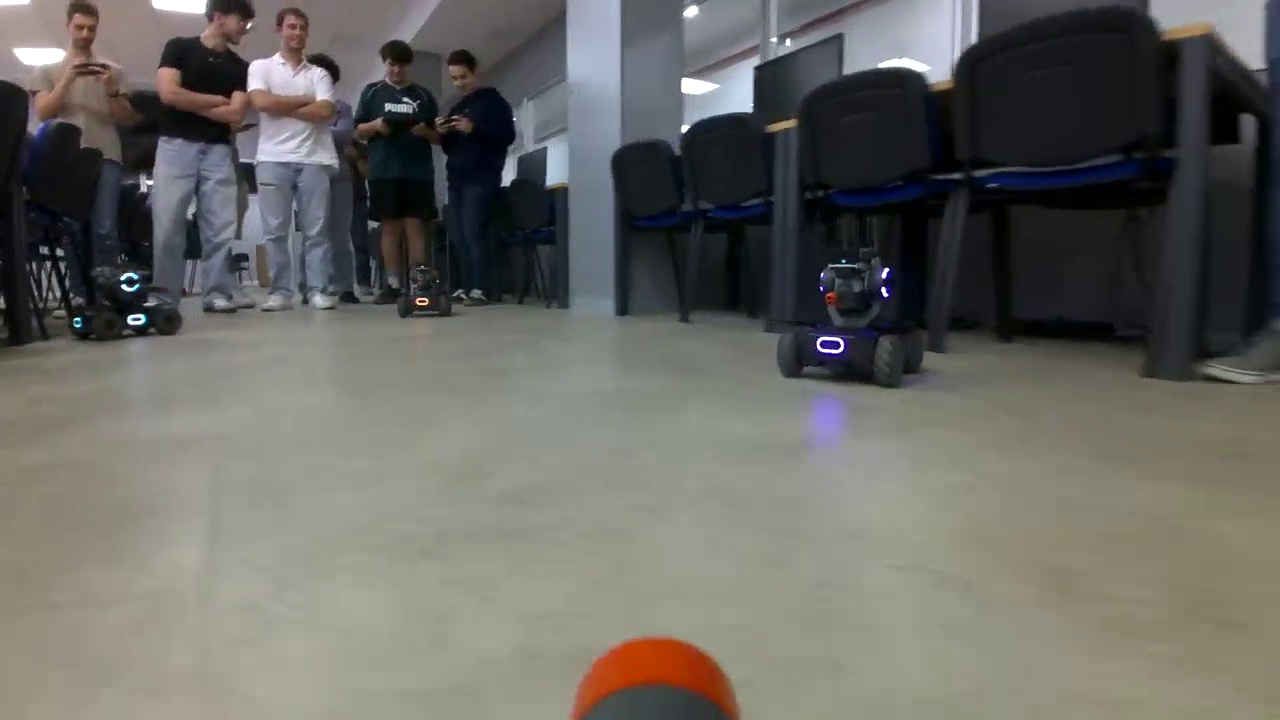robot: (775, 255, 925, 385), (65, 265, 185, 345), (395, 270, 455, 310)
